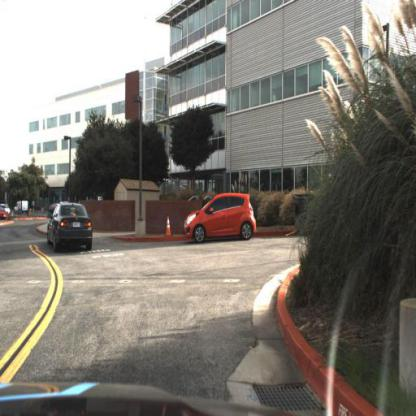car: (182, 189, 255, 244), (44, 200, 94, 251), (12, 196, 31, 214), (0, 203, 9, 228)
